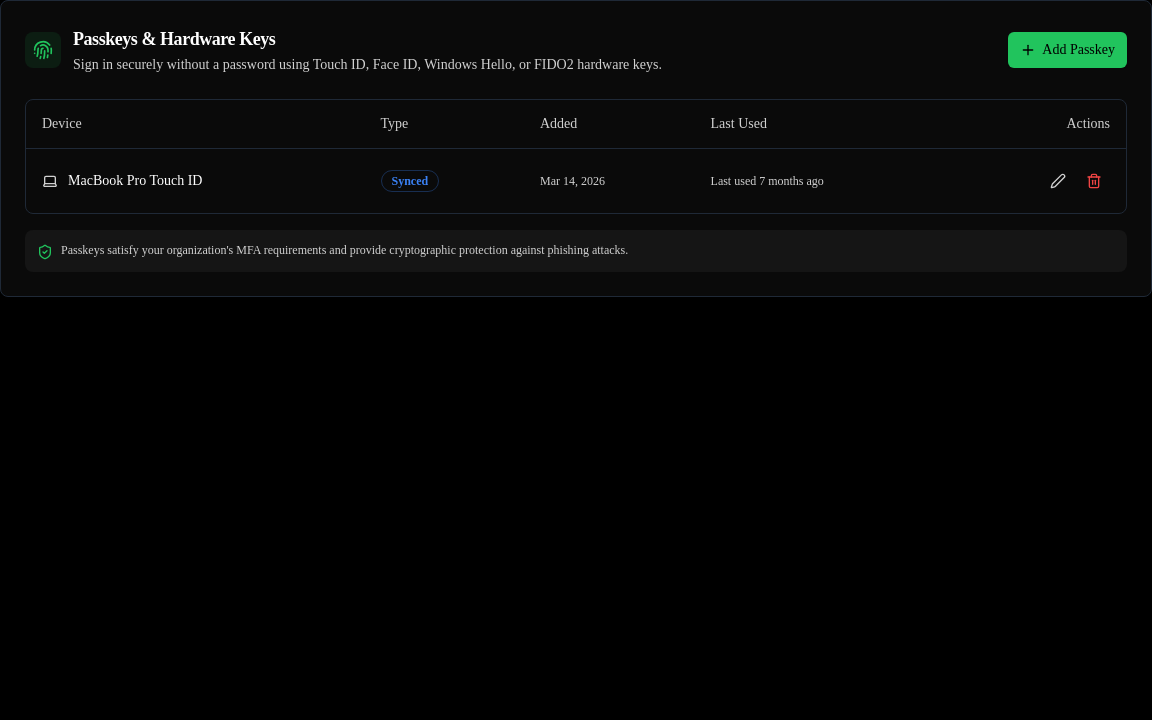
Test: PasskeysCard Component - Security Settings › 11. delete confirmation modal calls deletePasskey with the right id
Later steps or results of the test are not shown.
Note: Find and click delete action button on row
Click the button titled "Delete": (1094, 180) 1078,164 -> 1110,196
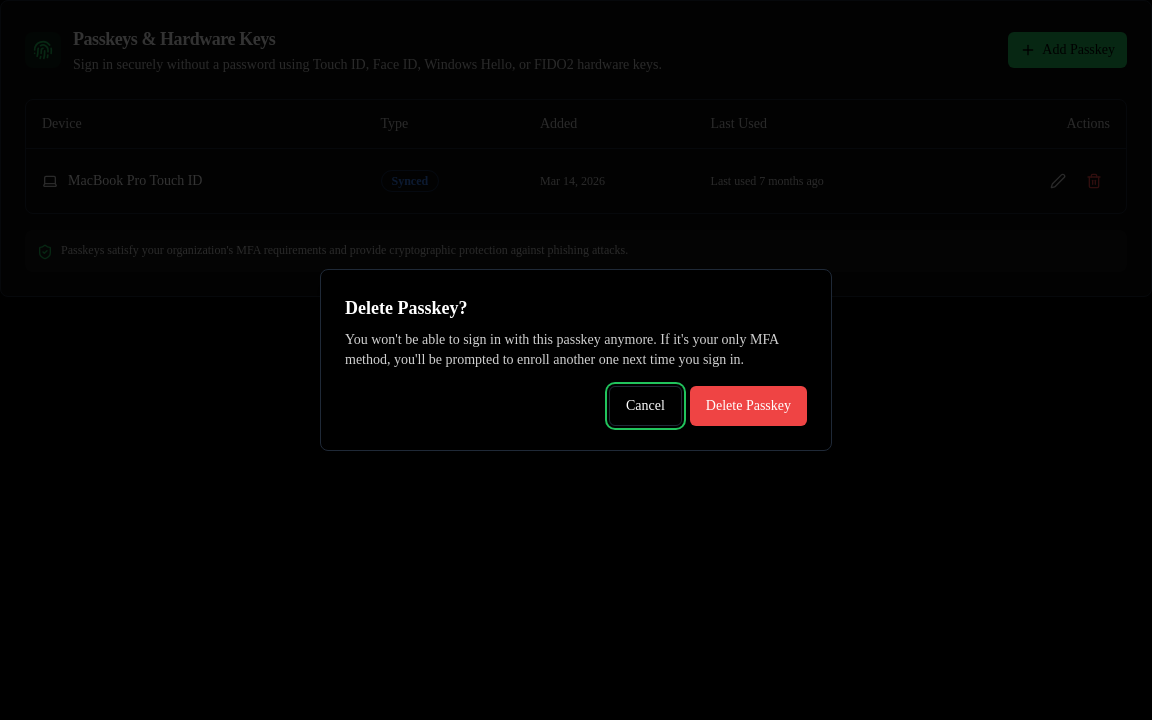
Expected: the heading "Delete Passkey?" is shown, 345,298 -> 468,318
Expected: the text "You won't be able to sign in with this passkey anymore" is shown, 345,332 -> 778,367
